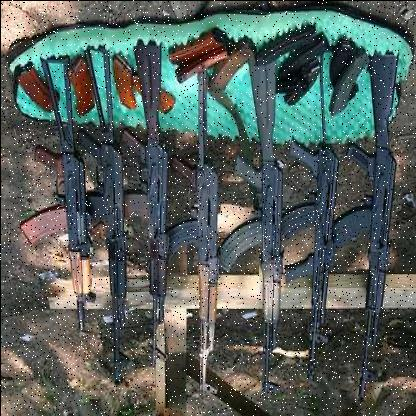rifle: (326, 28, 399, 406), (18, 10, 98, 352), (159, 67, 238, 408), (217, 53, 288, 403), (115, 20, 184, 369), (279, 36, 338, 403), (75, 43, 130, 396)
